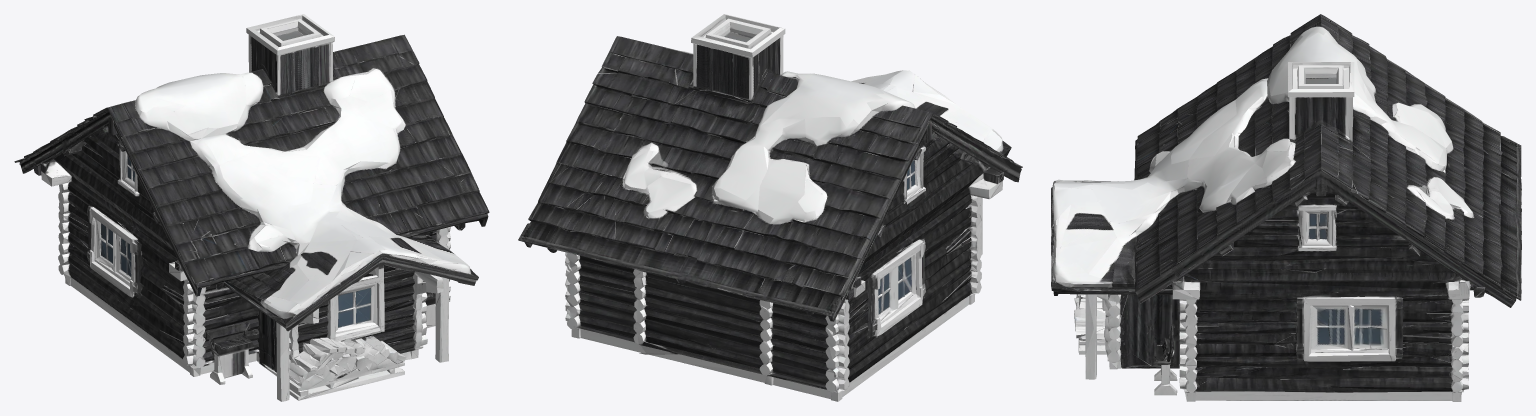
The model's file is chalet_small.glb.
The picture shows the model from 3 angles, left to right: view 1: azimuth 30°, elevation 25°; view 2: azimuth 150°, elevation 25°; view 3: azimuth 270°, elevation 25°; orthographic projection. The views are drawn at different scales.
Bounding box in the file's own units: 1.48 × 1.24 × 1.9.
Materials: 1 (1 with a texture image).
